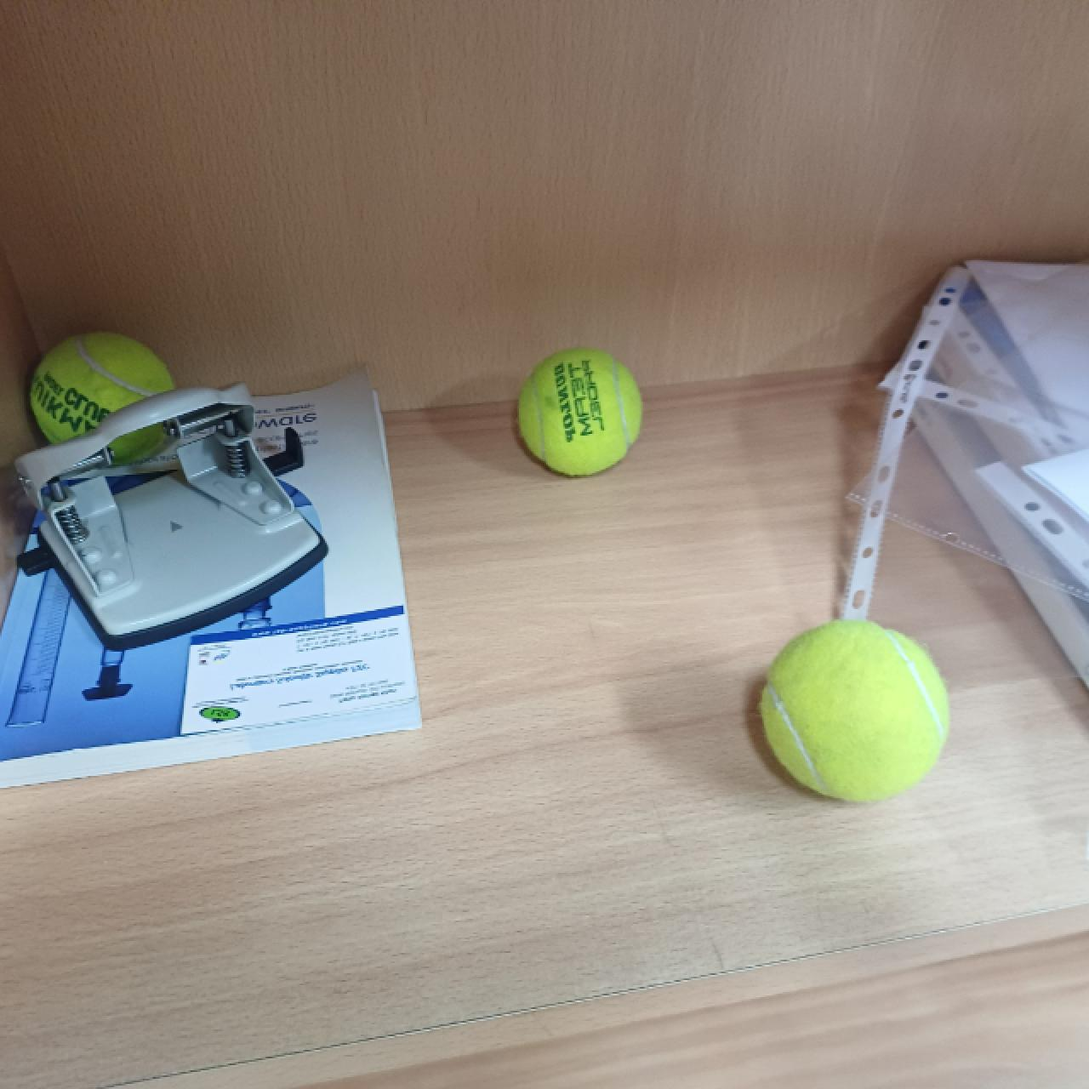tennis-ball: (758, 617, 953, 806), (26, 328, 180, 464), (516, 345, 645, 481)
